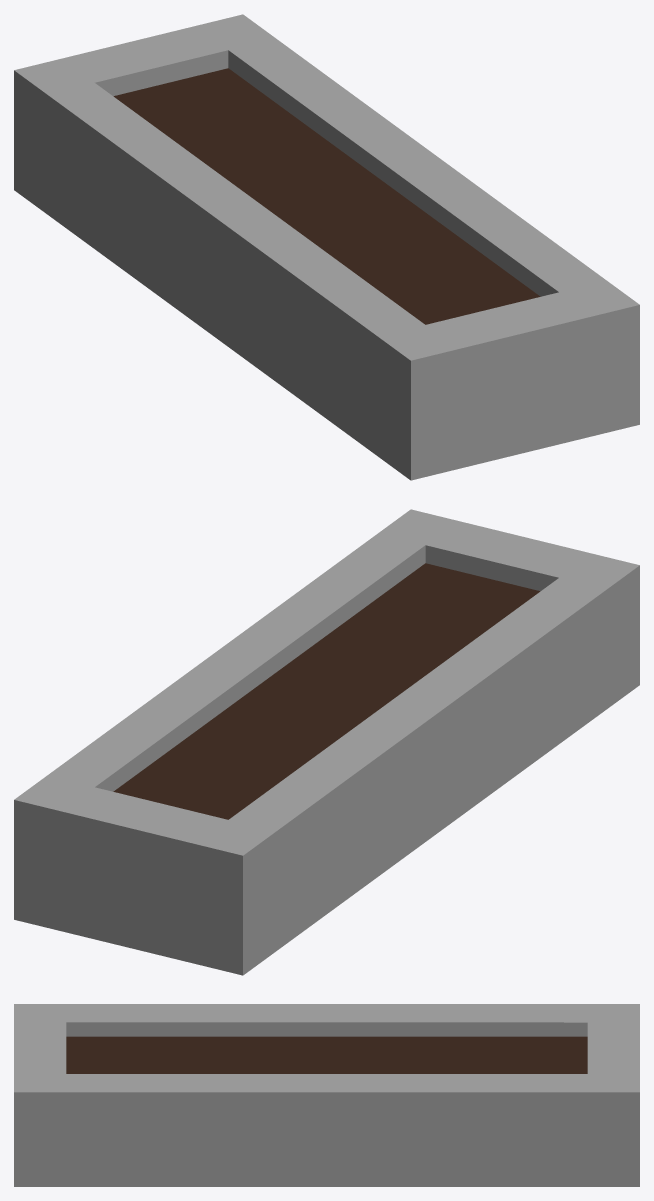
Rendered from Next_gardenbed.fbx.
3 views of the same model, one above another, from view 1: azimuth 30°, elevation 25°; view 2: azimuth 150°, elevation 25°; view 3: azimuth 270°, elevation 25° (orthographic). The views are drawn at different scales.
Visible parts, largest first — view 1: Cube; view 2: Cube; view 3: Cube.
Part boxes in pixels (x1=…): Cube: x1=14, y1=14, x2=639, y2=480; Cube: x1=14, y1=509, x2=639, y2=975; Cube: x1=14, y1=1004, x2=639, y2=1186.
Bounding box in the file's own units: 400 × 200 × 1200.
